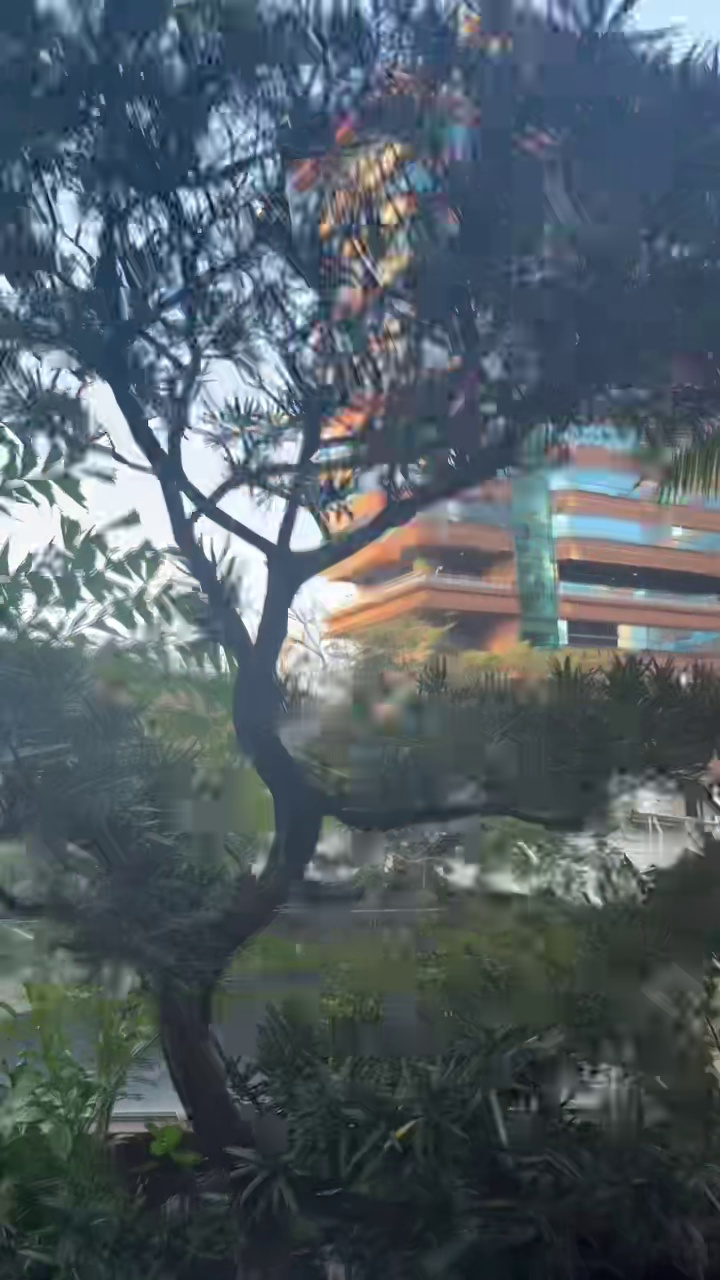Podocarpus macrophyllus: (0, 0, 719, 1149)
